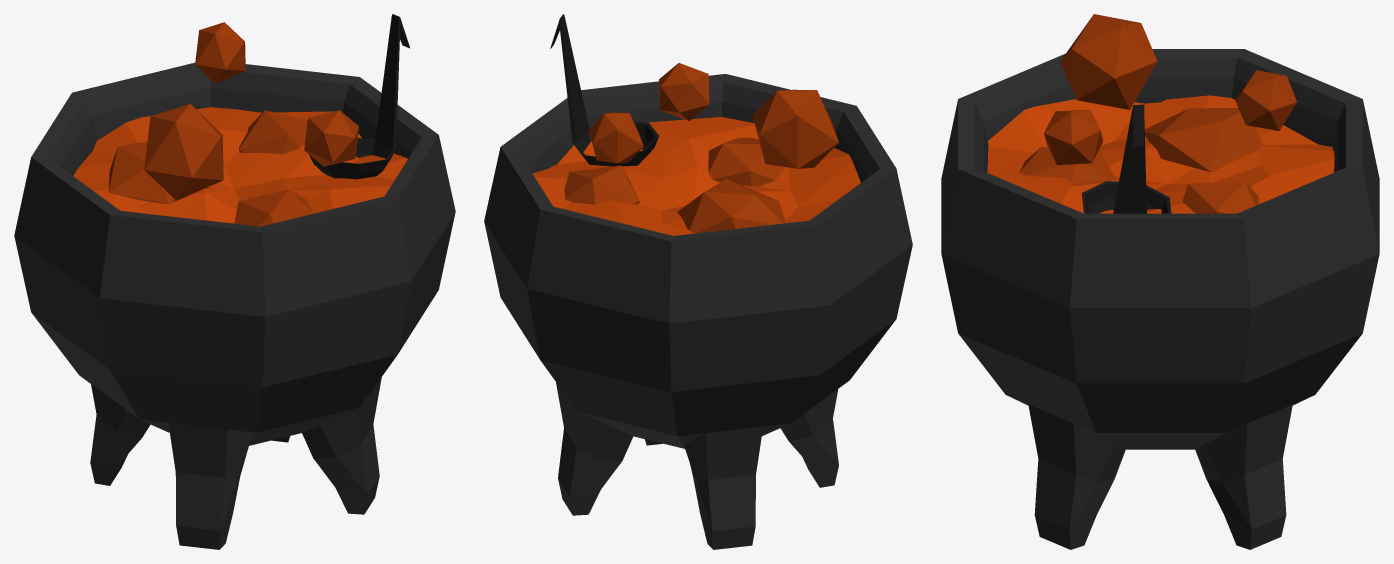
Rendered from cauldron export.fbx.
The picture shows the model from 3 angles, left to right: view 1: azimuth 30°, elevation 25°; view 2: azimuth 150°, elevation 25°; view 3: azimuth 270°, elevation 25°; orthographic projection. The views are drawn at different scales.
Visible parts, largest first — view 1: Cauldron, Liquid, Bubble 5, Ladle.001, Bubble 1, Bubble 2, Bubble 3, Bubble 6, Bubble 4; view 2: Cauldron, Liquid, Bubble 5, Bubble 2, Ladle.001, Bubble 4, Bubble 6, Bubble 1, Bubble 3; view 3: Cauldron, Liquid, Bubble 5, Bubble 2, Ladle.001, Bubble 3, Bubble 1, Bubble 6, Bubble 4.
Boxes of the visible parts, x1,y1,x2,y2 form: Cauldron: (14,62,455,549); Liquid: (73,107,407,223); Bubble 5: (144,103,223,200); Ladle.001: (309,14,409,179); Bubble 1: (304,110,358,166); Bubble 2: (108,141,208,203); Bubble 3: (195,22,245,83); Bubble 6: (239,110,307,154); Bubble 4: (234,189,314,226); Cauldron: (484,74,912,549); Liquid: (533,117,860,235); Bubble 5: (752,89,838,168); Bubble 2: (677,179,785,233); Ladle.001: (550,14,658,166); Bubble 4: (708,137,784,186); Bubble 6: (564,165,639,204); Bubble 1: (659,63,709,121); Bubble 3: (588,112,643,163); Cauldron: (941,49,1379,549); Liquid: (987,95,1334,213); Bubble 5: (1060,14,1157,109); Bubble 2: (1144,108,1263,172); Ladle.001: (1081,104,1171,213); Bubble 3: (1235,70,1296,131); Bubble 1: (1044,109,1103,164); Bubble 6: (1182,181,1258,213); Bubble 4: (1019,146,1115,183).
Bounding box in the file's own units: 355 × 425 × 357.
